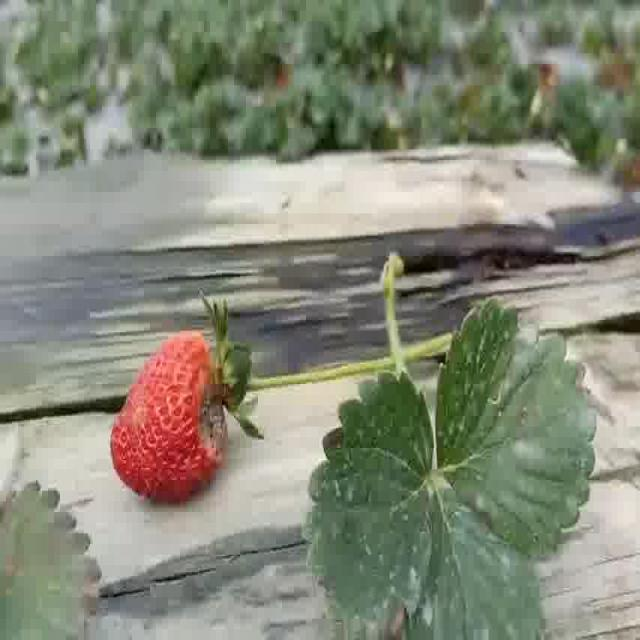Mancha negra Antracnosis: (102, 330, 232, 503)
